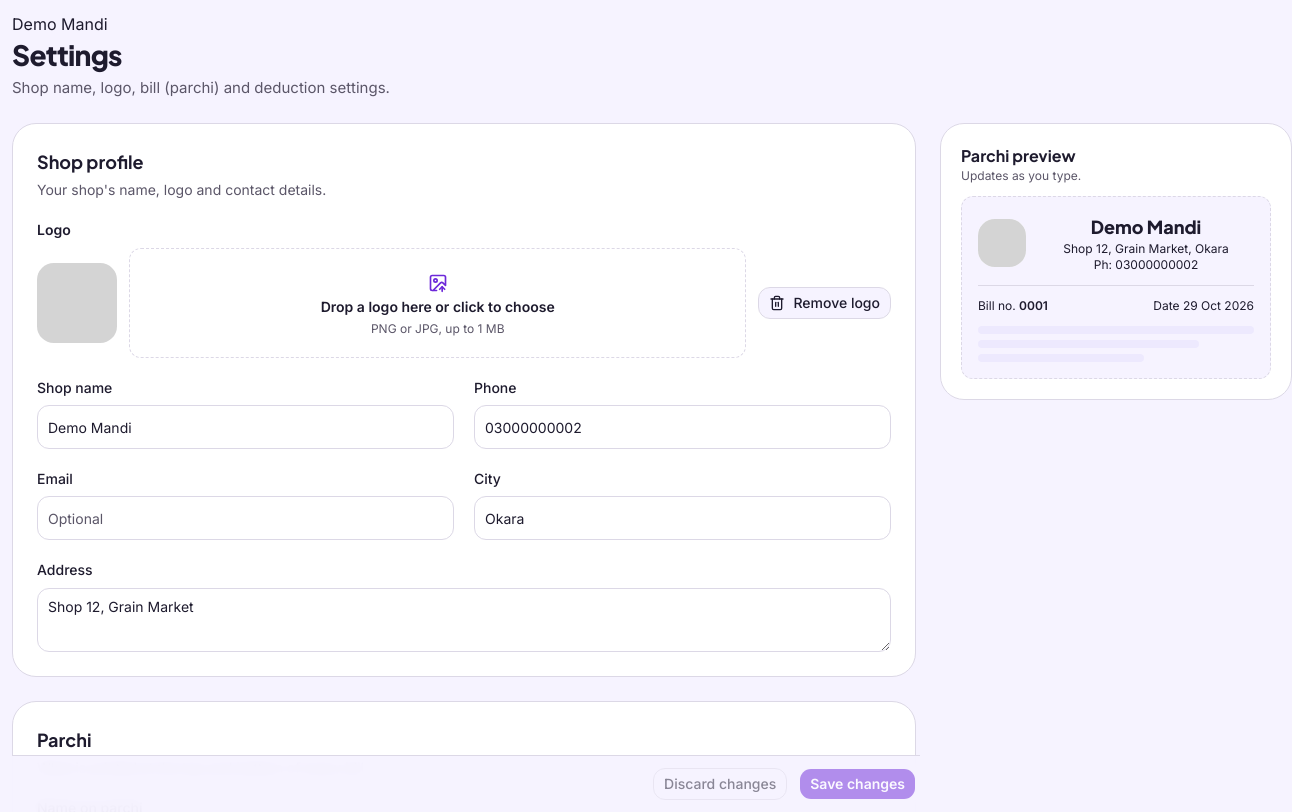
Test: LogoUpload › remove › sends logoUrl: null and shows the initials again
Click the button "Remove logo".
click(825, 303)  # box [758,287,891,319]
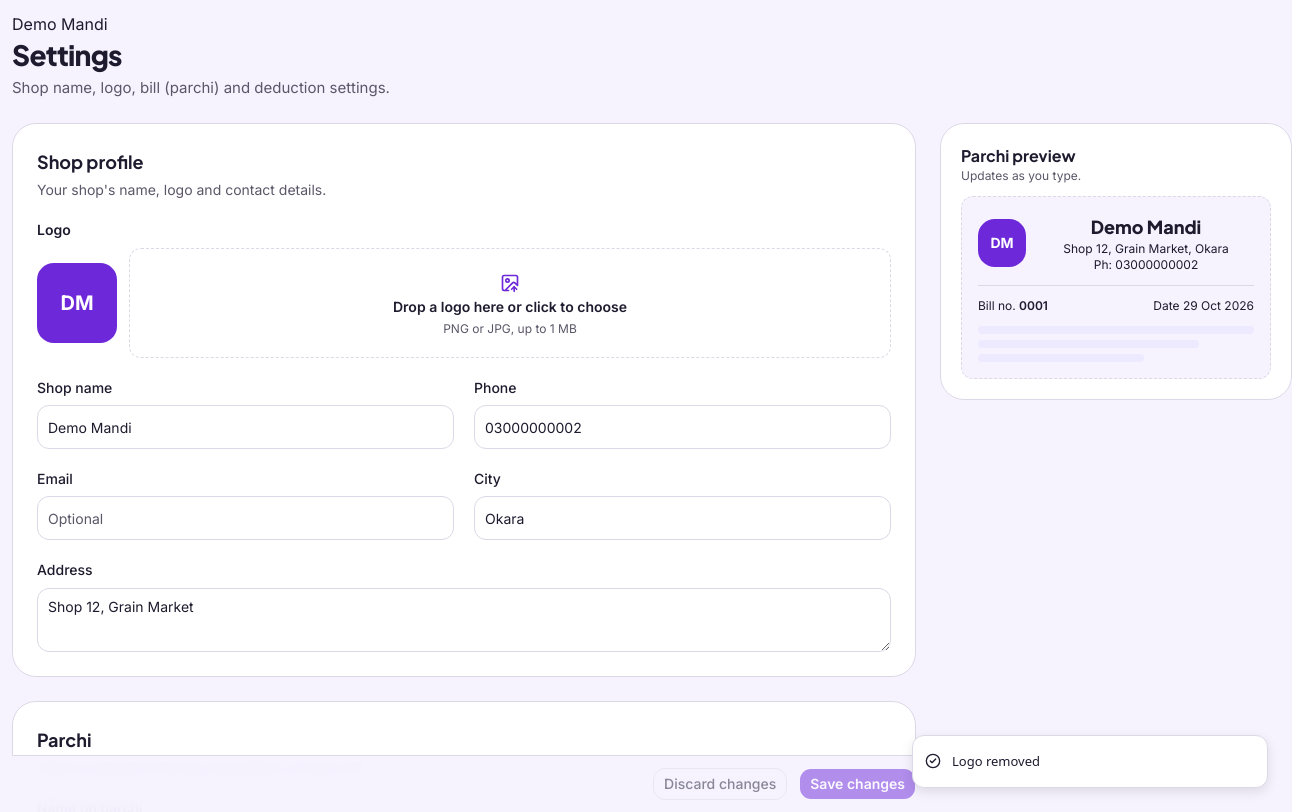
Expected: the text "Logo removed" is shown, [952,752,1040,771]
Expected: no pictures with test id "shop-logo" are shown
Expected: the number of elements with test id "shop-initials" is 2, [60,289,94,317]; [990,233,1014,253]
